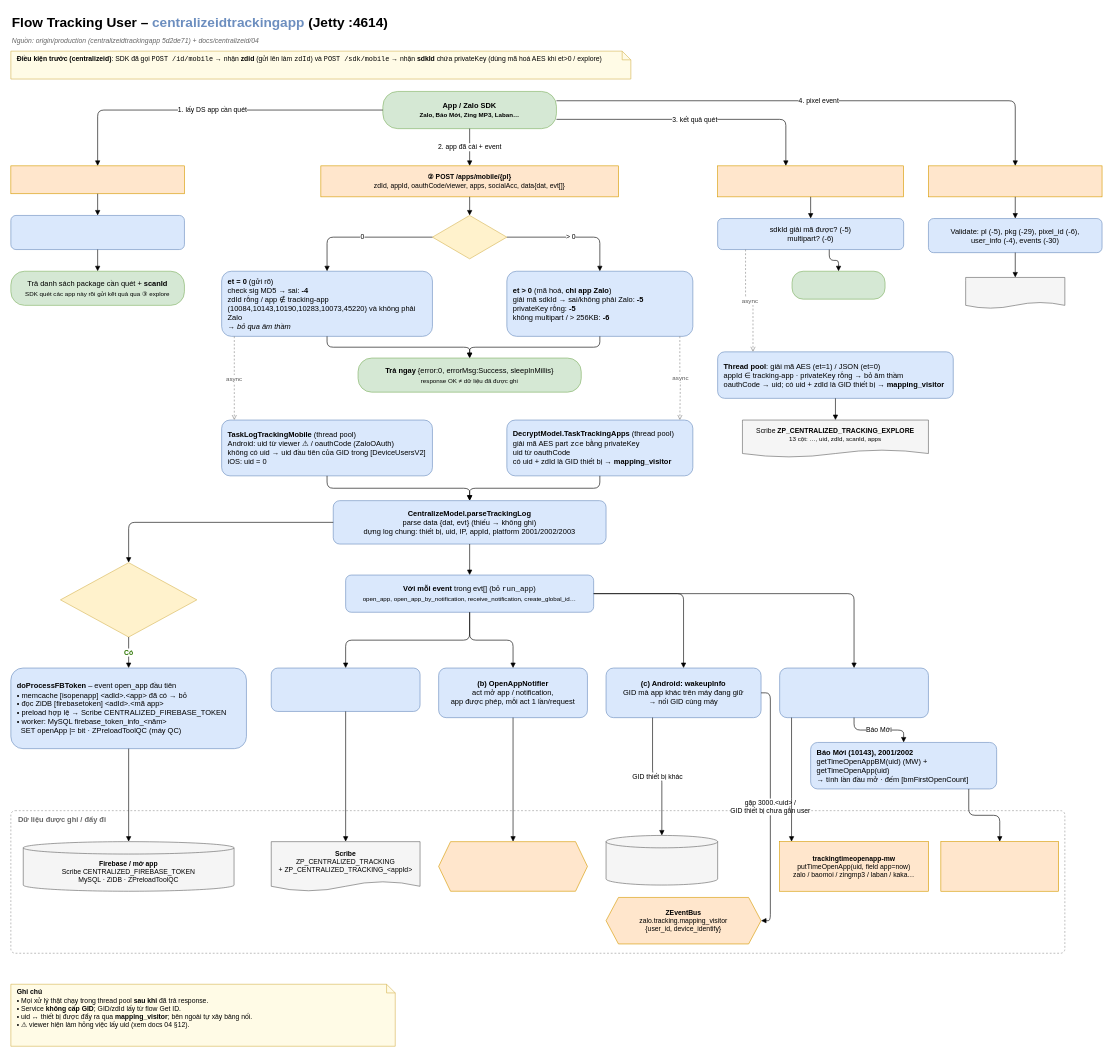
The diagram is 1113 pixels wide and 1057 high, and some of its shapes have lost their labels. The centre of each missing label's shape, as x and y in pixels:
"(a) Ghi 1 dòng log 37 cột (uid, zdId, event, thiết bị, apps…)" goes at pixel 345 689.
"(d) putTSOfDeviceByApp uid (hoặc uid trong zdId 3000.) không có uid → bỏ" goes at pixel 853 692.
"app ∈ {10143, 10084, 10283, 10190} hoặc Zalo và không phải iOS?" goes at pixel 128 599.
"centralizeidmw putActiveTime(3000.<uid>, …) → ZiDB lastopenapptimestamp" goes at pixel 999 866.
"et ?" goes at pixel 469 237.
"Lọc theo whitelist appId trong [Configuration@trackingapps]" goes at pixel 97 232.
"Scribe PIXEL_TRACKING" goes at pixel 1015 292.
"StrListStr [mapping_device_gid] GID ↔ GID (2 chiều)" goes at pixel 661 860.
"Trả ngay error 0" goes at pixel 838 285.
"ZEventBus zwp.coop_appopen (cho đối tác, appId đổi mã 1-4)" goes at pixel 512 866.
"① GET /apps/mobile/{pl}?appId" goes at pixel 97 179.
"③ POST /apps/mobile/explore/* ?sdkId&et (multipart part zce )" goes at pixel 810 181.
"④ POST /pixel/{android,ios} body JSON gzip · không xác thực" goes at pixel 1015 181.
